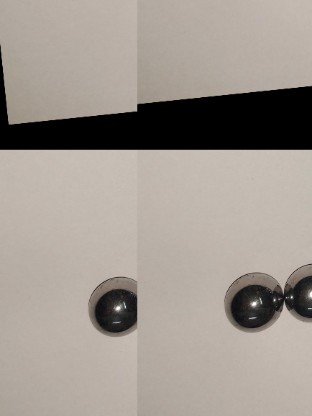ironball: (217, 271, 284, 339), (85, 275, 137, 334), (278, 266, 311, 325)
